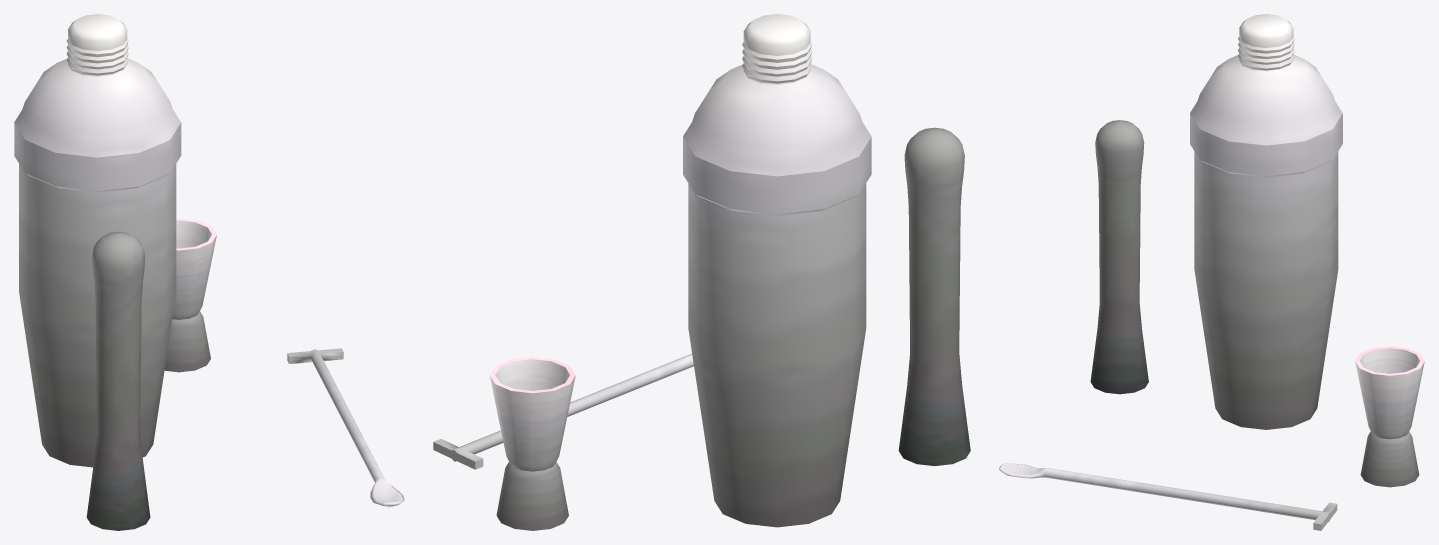
3 views of the same model, side by side, from view 1: azimuth 30°, elevation 25°; view 2: azimuth 150°, elevation 25°; view 3: azimuth 270°, elevation 25° (orthographic). The views are drawn at different scales.
Visible parts, largest first — view 1: CocktailShakersAndUtensils; view 2: CocktailShakersAndUtensils; view 3: CocktailShakersAndUtensils.
Part boxes in pixels (x1,y1,x2,y2): CocktailShakersAndUtensils: (14, 14, 404, 530); CocktailShakersAndUtensils: (433, 14, 970, 530); CocktailShakersAndUtensils: (999, 14, 1424, 530).
Size of what is drawn, in the model's own units: 0.3991 by 0.4458 by 0.445.
1 material, 1 textured.
